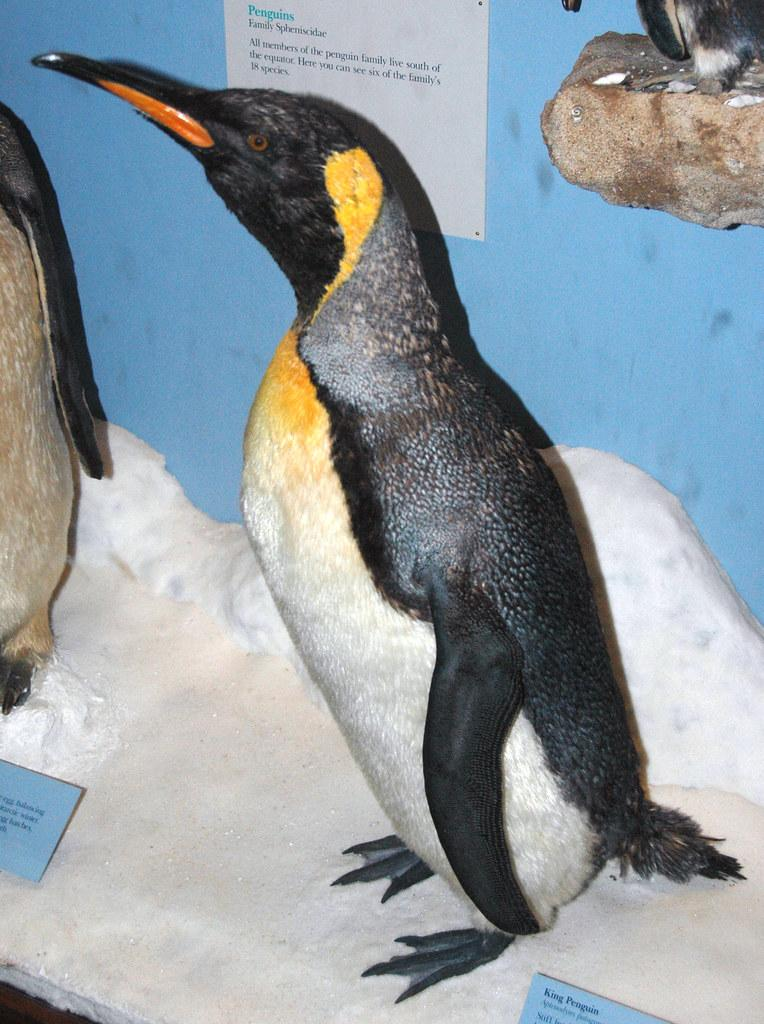king: (17, 16, 764, 951)
